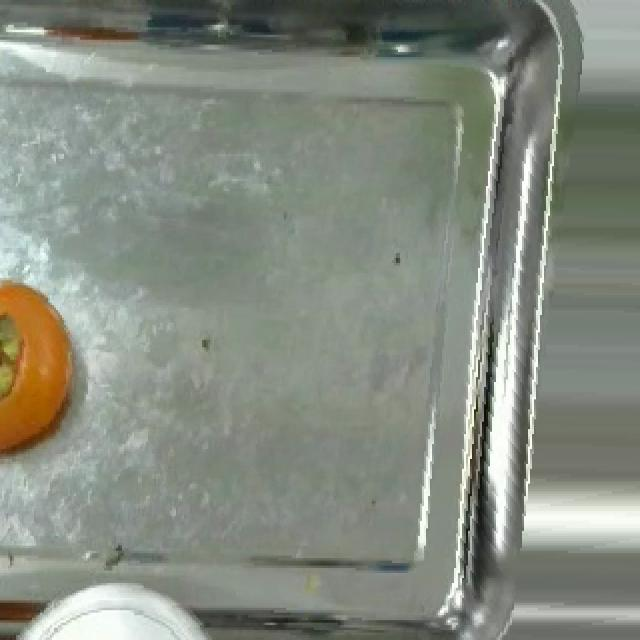Fruit: (0, 261, 100, 488)
